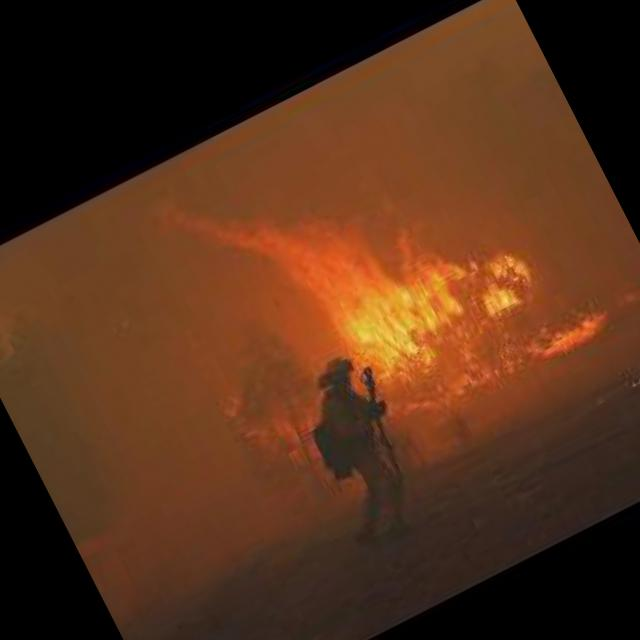fire: (186, 66, 548, 427), (388, 264, 640, 438)
